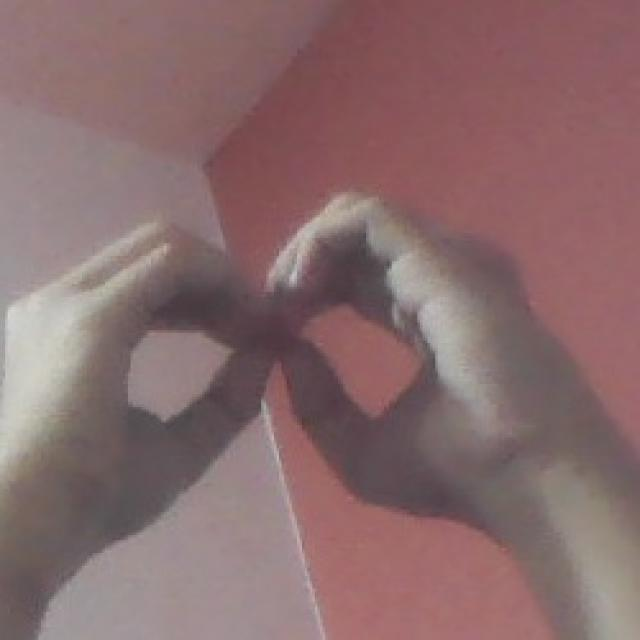Alphabet-B: (6, 186, 581, 562)
